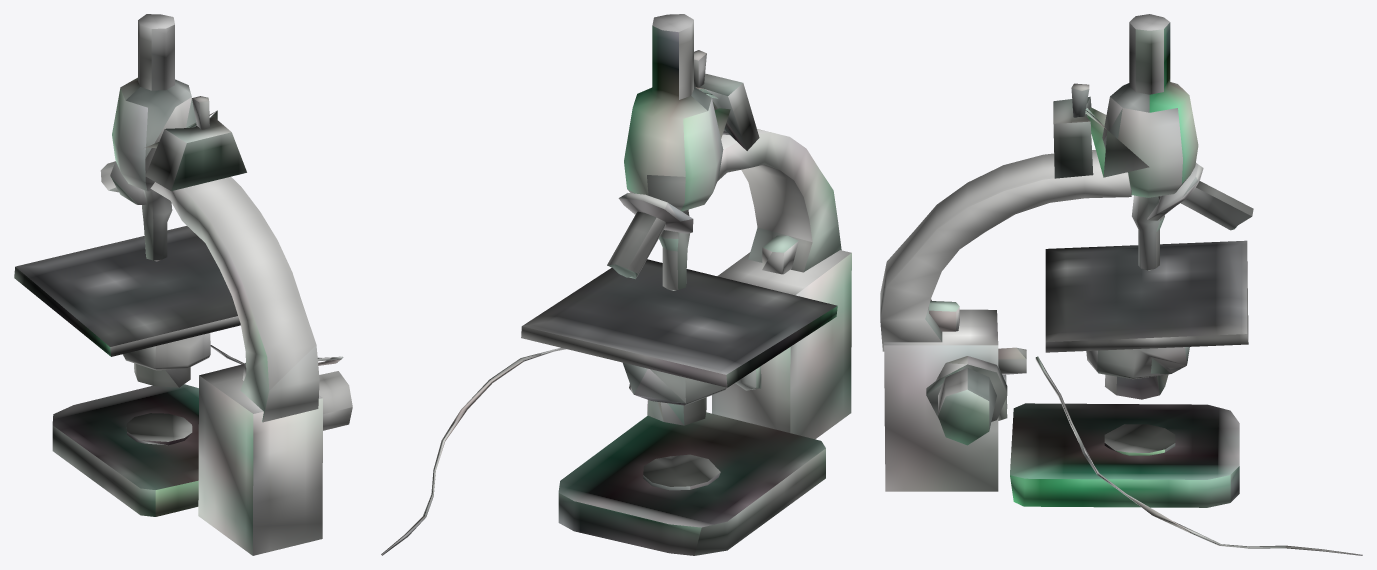
Rendered from office-lab-microscope.glb.
The picture shows the model from 3 angles, left to right: view 1: azimuth 30°, elevation 25°; view 2: azimuth 150°, elevation 25°; view 3: azimuth 270°, elevation 25°; orthographic projection. The views are drawn at different scales.
Visible parts, largest first — view 1: lab-microscope; view 2: lab-microscope; view 3: lab-microscope.
Part boxes in pixels (x1=…): lab-microscope: x1=14, y1=14, x2=352, y2=555; lab-microscope: x1=381, y1=14, x2=851, y2=555; lab-microscope: x1=880, y1=14, x2=1362, y2=555.
Size of the model in its own units: 0.2691 by 0.4 by 0.3847.
1 material, 1 textured.
